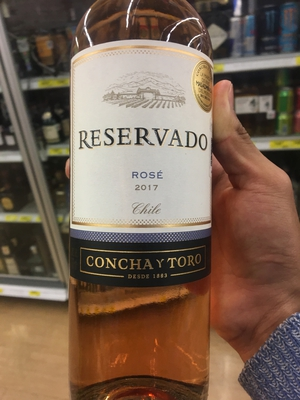reservado rose: (66, 12, 216, 400)
